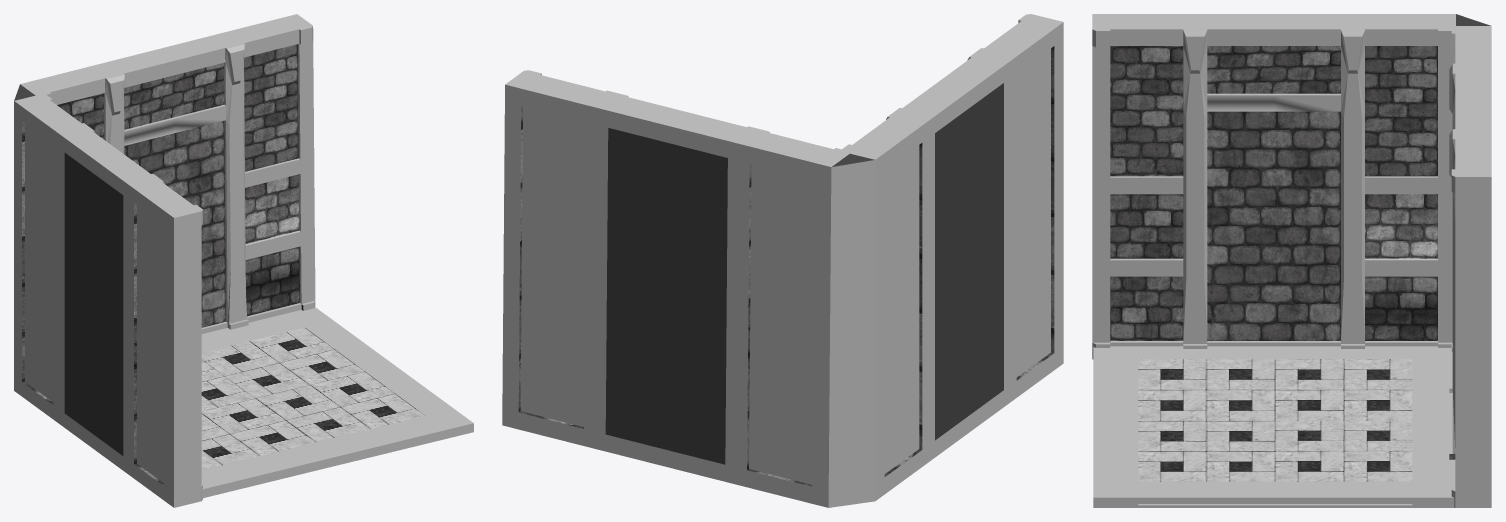
File: Mod1.fbx
The picture shows the model from 3 angles, left to right: view 1: azimuth 30°, elevation 25°; view 2: azimuth 150°, elevation 25°; view 3: azimuth 270°, elevation 25°; orthographic projection. The views are drawn at different scales.
Visible parts, largest first — view 1: Floor4; view 2: Floor4; view 3: Floor4.
Part boxes in pixels (left/top/right/bottom): Floor4: left=14, top=14, right=473, bottom=507; Floor4: left=502, top=14, right=1063, bottom=507; Floor4: left=1092, top=14, right=1491, bottom=507.
Size of the model in its own units: 326 by 303 by 329.
